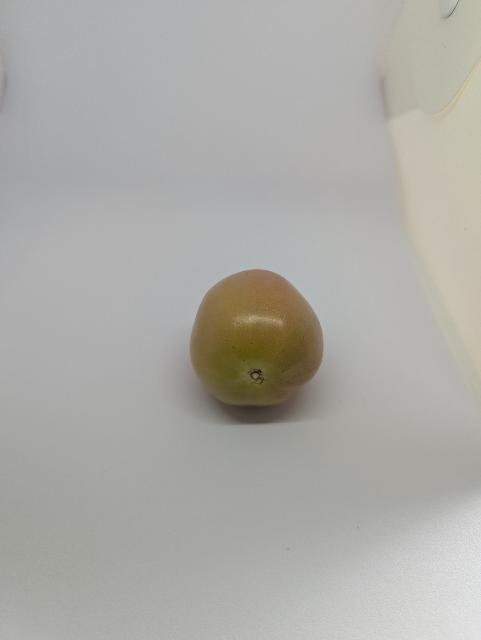breaker: (184, 250, 333, 419)
